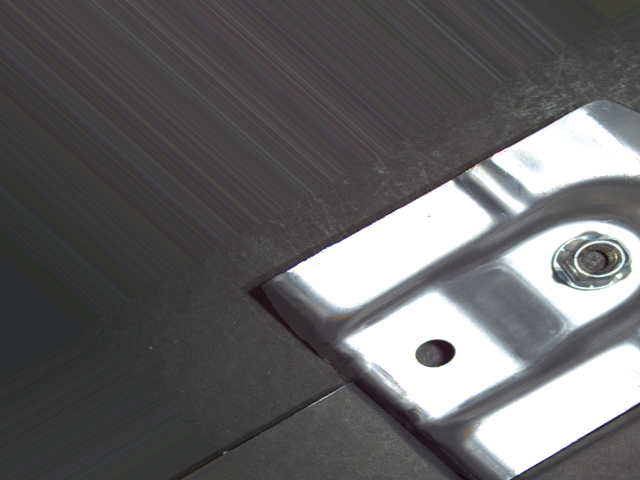good: (547, 231, 636, 292)
